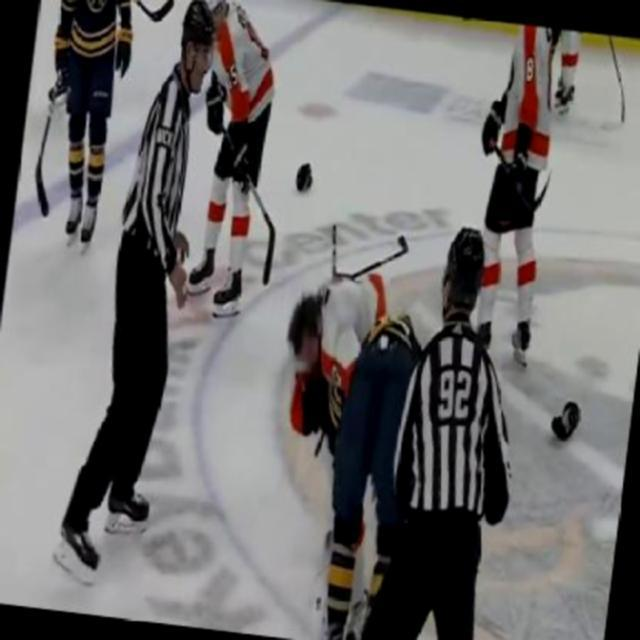fight: (251, 252, 454, 638)
non-fight: (81, 0, 220, 532), (165, 0, 288, 320)
